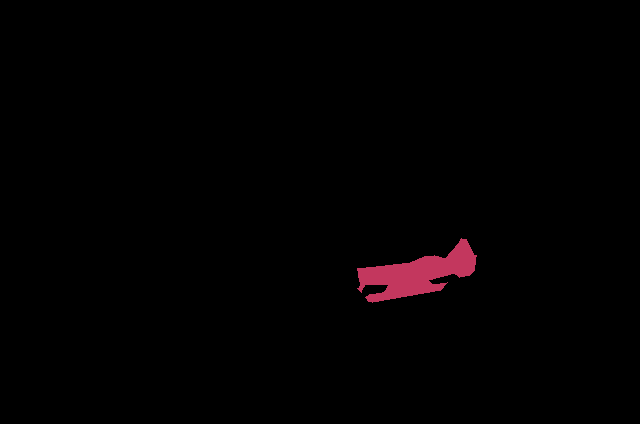Airplane: (357, 238, 476, 302)
